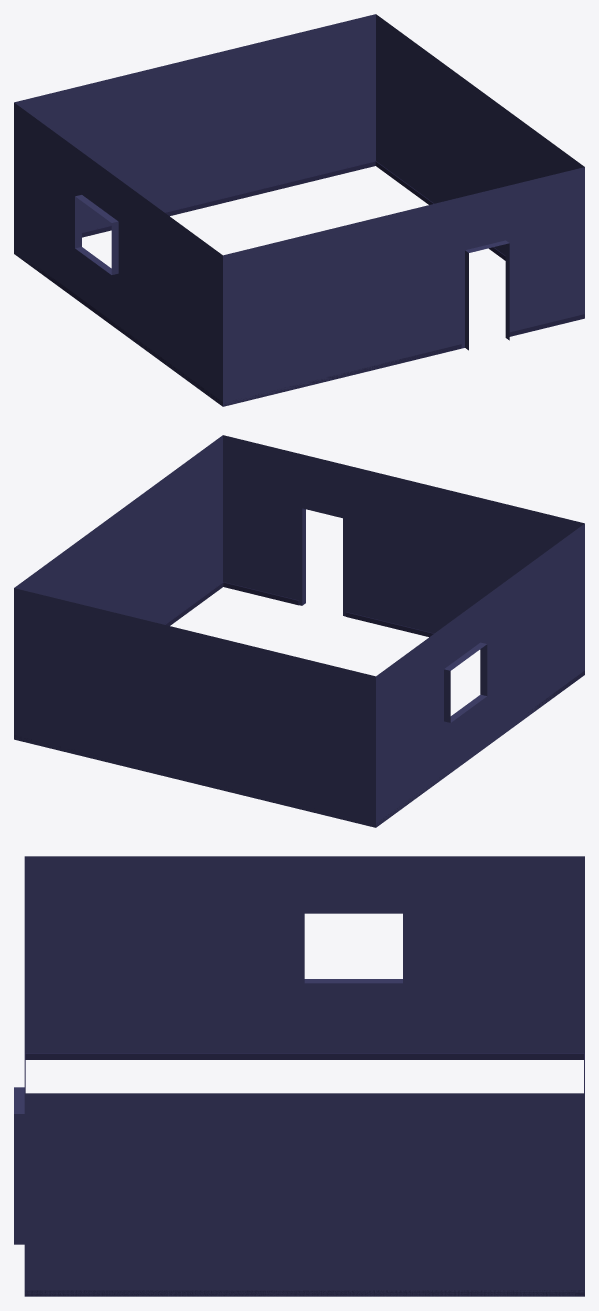
Rendered from room_walls.fbx.
The picture shows the model from 3 angles, top to bottom: view 1: azimuth 30°, elevation 25°; view 2: azimuth 150°, elevation 25°; view 3: azimuth 270°, elevation 25°; orthographic projection. The views are drawn at different scales.
Parts seen in each view (by area): view 1: room_walls; view 2: room_walls; view 3: room_walls.
Part boxes in pixels (x1=…): room_walls: x1=14, y1=14, x2=584, y2=406; room_walls: x1=14, y1=435, x2=584, y2=827; room_walls: x1=14, y1=856, x2=584, y2=1296.
Bounding box in the file's own units: 8.15 × 3.2 × 8.15.
